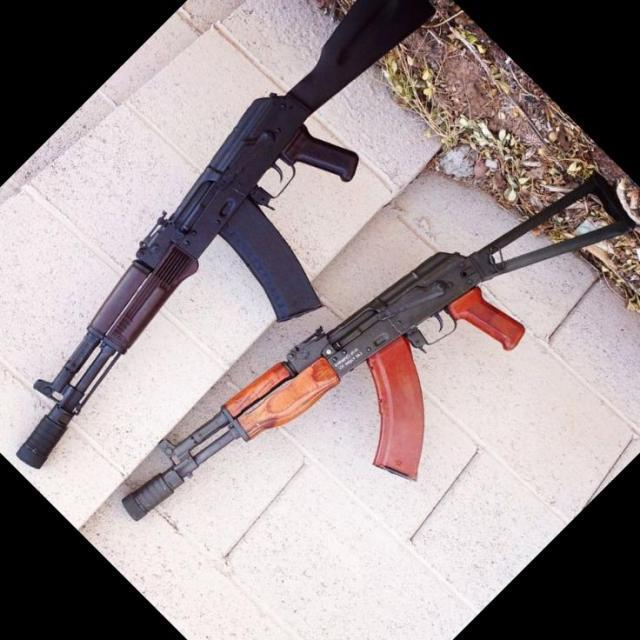weapon: (14, 0, 436, 471), (120, 172, 638, 520)
